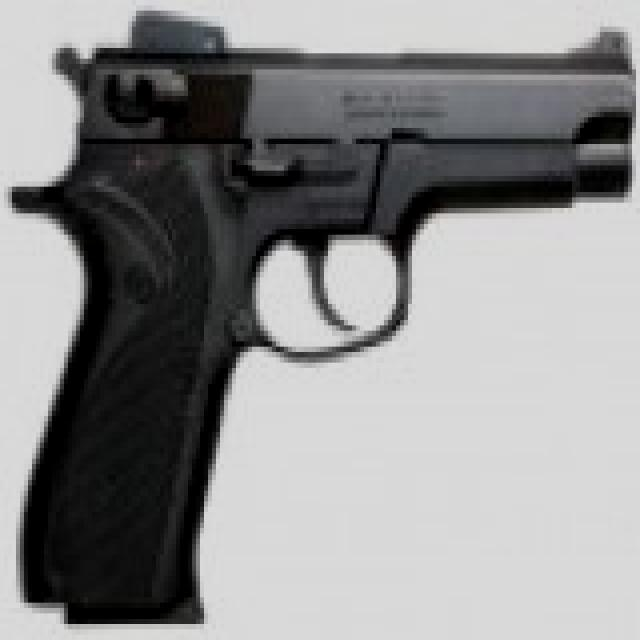pistol: (28, 0, 640, 624)
